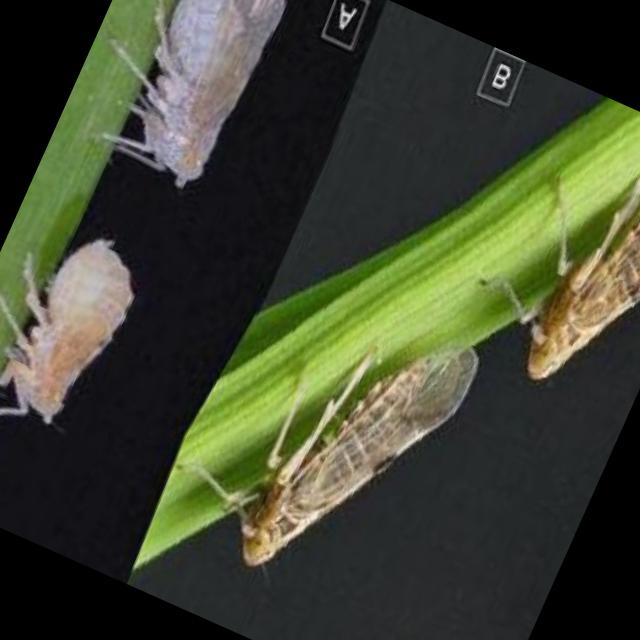brown-planthopper: (203, 278, 500, 628), (501, 121, 640, 419), (103, 0, 292, 191), (0, 226, 145, 452)
